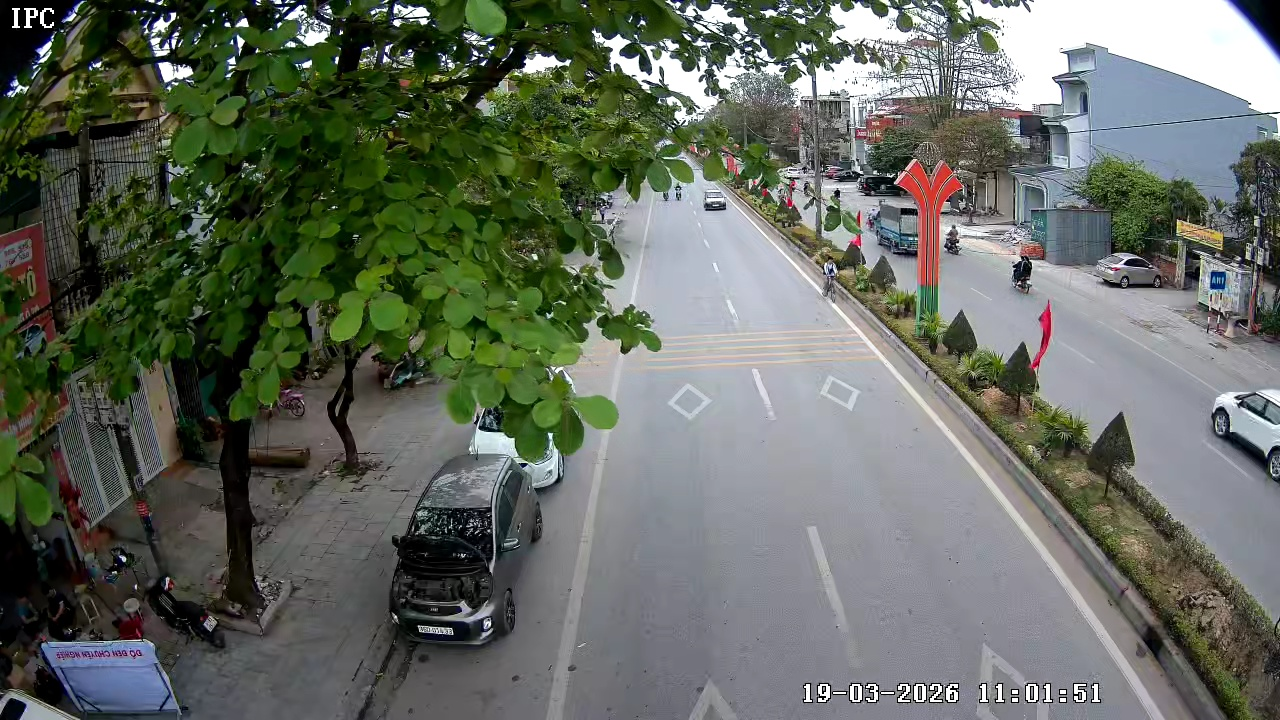bike: (818, 254, 847, 312)
car: (388, 451, 545, 646), (1209, 387, 1279, 486), (1092, 250, 1165, 290), (701, 184, 728, 211)
motorbike: (0, 459, 49, 714), (1009, 254, 1035, 295)
